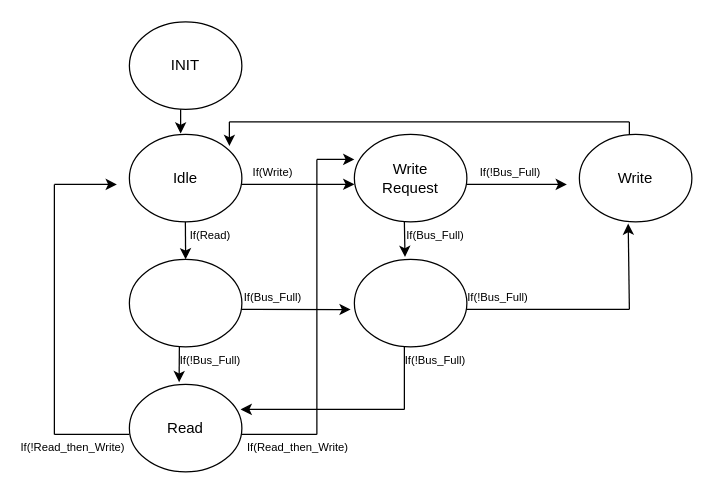
The diagram is 714 pixels wide and 494 high, and some of its shapes have lost their labels. Here are the shapes that lost their labels. From the top down, the centre of each, then its label:
At point (185, 302): "Read Request".
At point (410, 302): "Wait".
